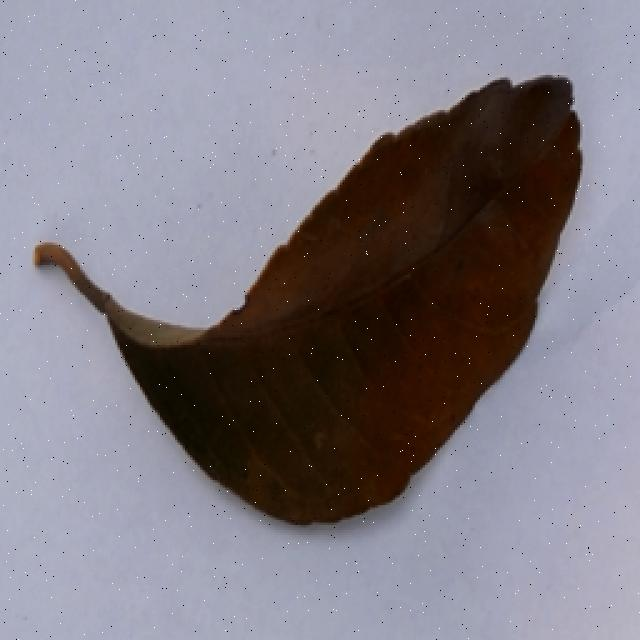greening: (29, 67, 604, 533)
